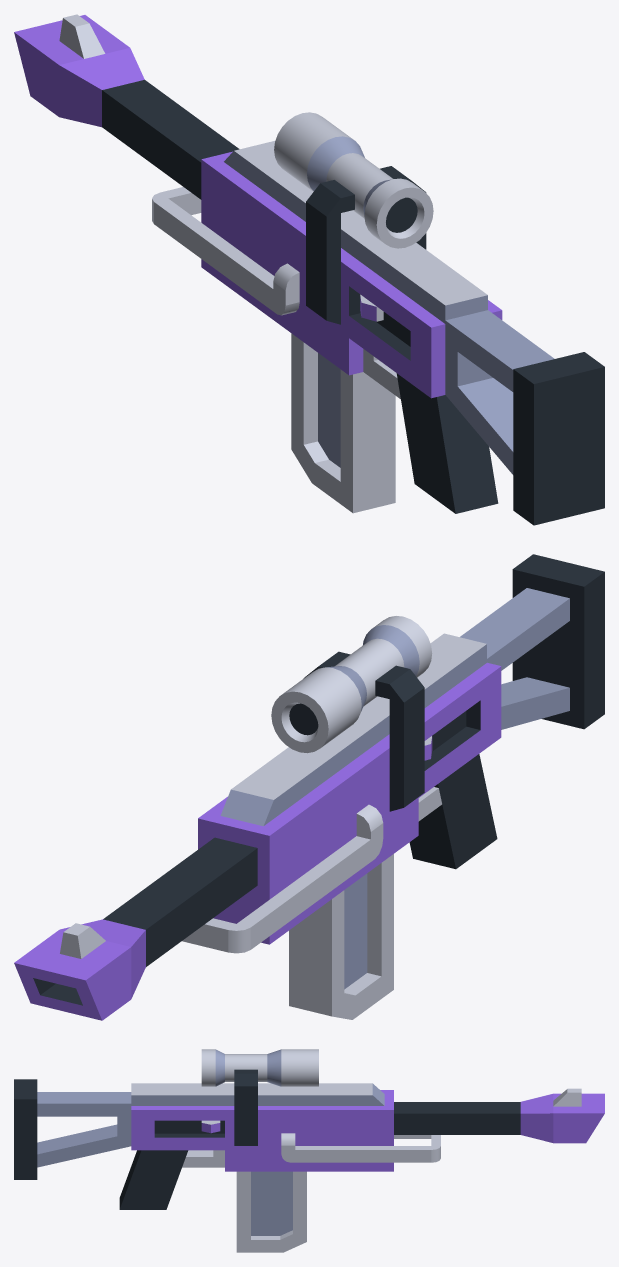
Rendered from blasterF.dae.
3 views of the same model, one above another, from view 1: azimuth 30°, elevation 25°; view 2: azimuth 150°, elevation 25°; view 3: azimuth 270°, elevation 25° (orthographic). The views are drawn at different scales.
Parts seen in each view (by area): view 1: blasterF; view 2: blasterF; view 3: blasterF.
Part boxes in pixels (x1,y1,x2,y2): blasterF: [14, 14, 604, 525]; blasterF: [14, 554, 604, 1020]; blasterF: [14, 1049, 604, 1252].
Size of the model in its own units: 0.14 by 0.46 by 1.26.
